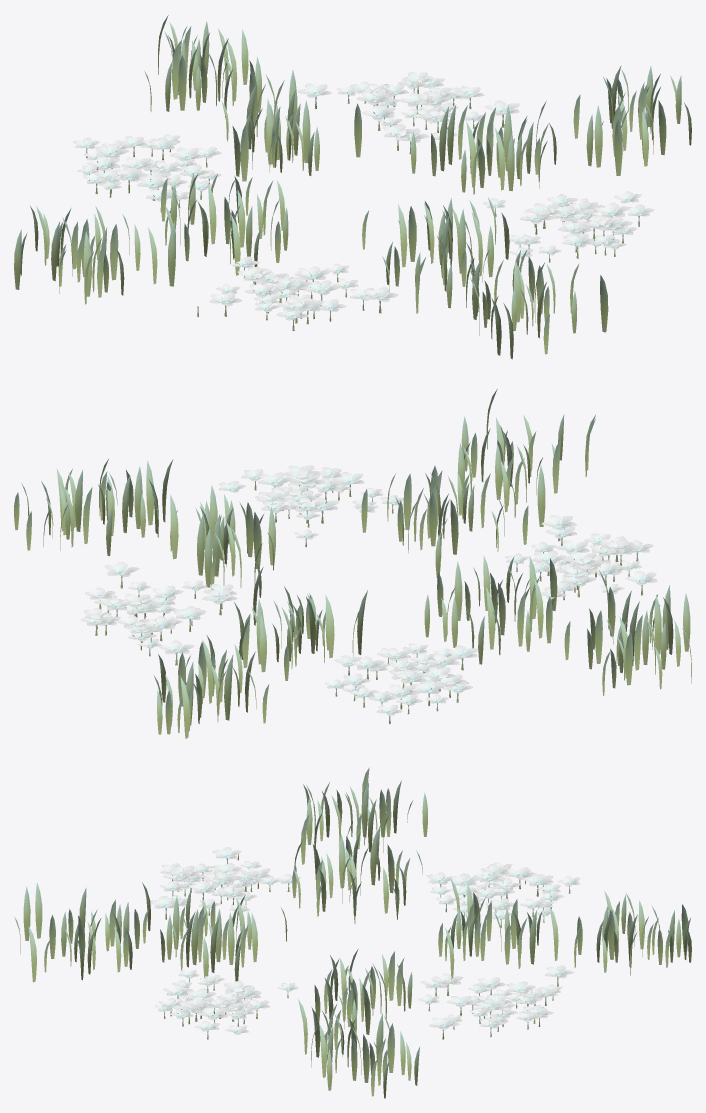
File: DungeonFlora.fbx
3 views of the same model, one above another, from view 1: azimuth 30°, elevation 25°; view 2: azimuth 150°, elevation 25°; view 3: azimuth 270°, elevation 25° (orthographic). The views are drawn at different scales.
Visible parts, largest first — view 1: Plane.015, Plane.057, Plane.011, Plane.014, Plane.366, Plane.013, Plane.009, Plane.172, Plane.012, Plane.008, Plane.010, Plane.007; view 2: Plane.015, Plane.011, Plane.012, Plane.057, Plane.014, Plane.008, Plane.013, Plane.366, Plane.007, Plane.010, Plane.172, Plane.009; view 3: Plane.172, Plane.010, Plane.057, Plane.014, Plane.008, Plane.015, Plane.013, Plane.009, Plane.007, Plane.012, Plane.011, Plane.366.
Boxes of the visible parts, x1,y1,x2,y2 form: Plane.015: [73, 134, 221, 211]; Plane.057: [297, 72, 519, 154]; Plane.011: [14, 206, 175, 304]; Plane.014: [197, 256, 398, 330]; Plane.366: [411, 101, 556, 194]; Plane.013: [482, 191, 654, 265]; Plane.009: [221, 68, 361, 181]; Plane.172: [415, 249, 608, 359]; Plane.012: [161, 173, 288, 275]; Plane.008: [573, 65, 691, 175]; Plane.010: [362, 197, 509, 293]; Plane.007: [144, 15, 261, 117]; Plane.015: [324, 643, 477, 723]; Plane.011: [564, 570, 691, 695]; Plane.012: [424, 555, 557, 664]; Plane.057: [81, 561, 237, 665]; Plane.014: [505, 515, 657, 600]; Plane.008: [14, 459, 173, 556]; Plane.013: [219, 465, 403, 547]; Plane.366: [170, 484, 275, 597]; Plane.007: [153, 635, 269, 738]; Plane.010: [361, 466, 528, 577]; Plane.172: [458, 389, 595, 526]; Plane.009: [234, 567, 367, 680]; Plane.172: [14, 882, 150, 982]; Plane.010: [160, 890, 287, 981]; Plane.057: [418, 965, 574, 1039]; Plane.014: [150, 847, 300, 919]; Plane.008: [298, 999, 419, 1098]; Plane.015: [426, 862, 580, 927]; Plane.013: [155, 970, 298, 1039]; Plane.009: [438, 878, 558, 979]; Plane.007: [574, 890, 691, 975]; Plane.012: [292, 830, 422, 923]; Plane.011: [300, 767, 427, 864]; Plane.366: [314, 949, 412, 1034].
Size of the model in its own units: 2471 by 222 by 2475.
Materials: 4 (4 with a texture image).
